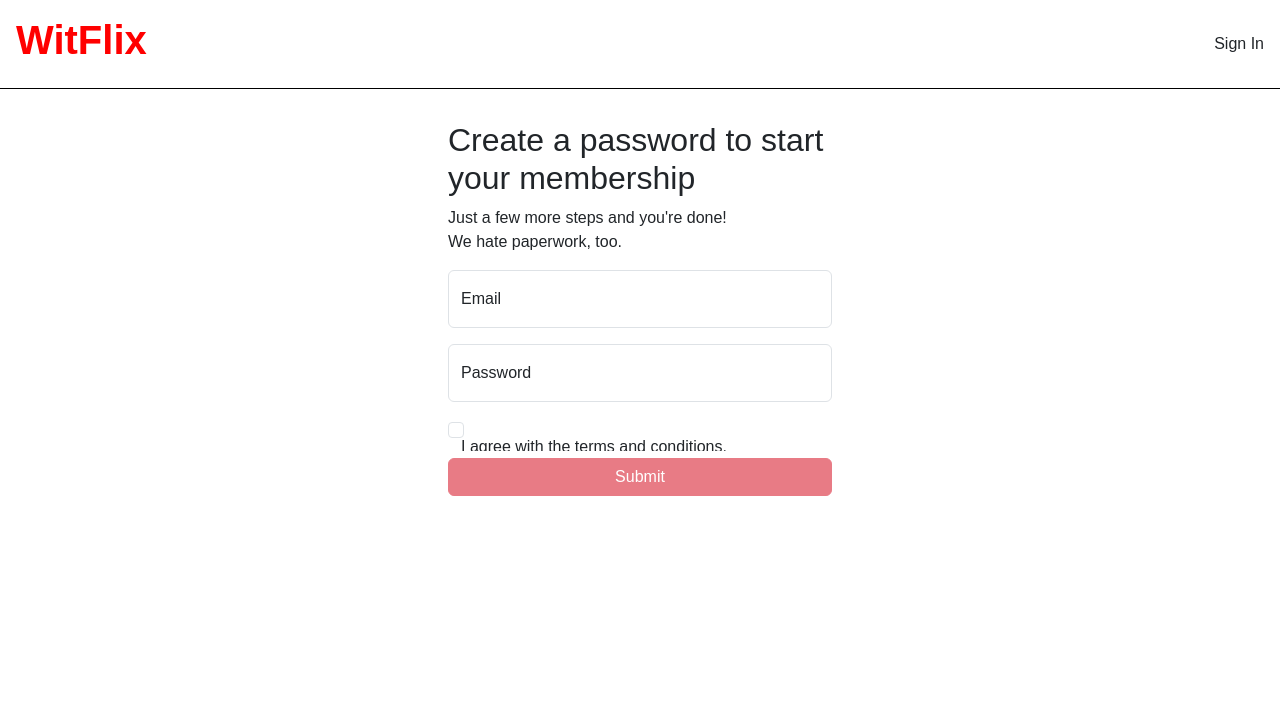
Test: Login From Tests › Fail Tests › wrong email throws error
The width and height of the screenshot is (1280, 720).
Type "emre@w" into the field with test id "email-input" at (640, 299), box [448, 270, 832, 328]
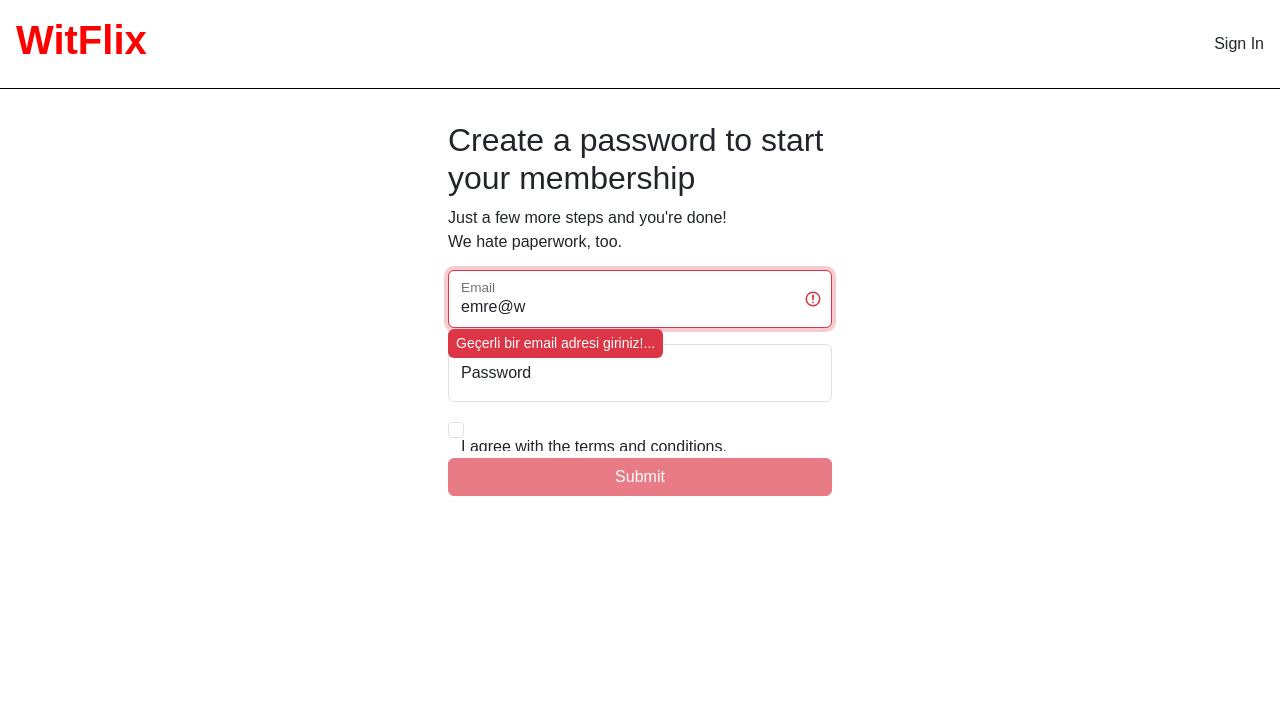
Result: the text with test id "error" reads "Geçerli bir email adresi giriniz!..." at [456, 335, 655, 351]
